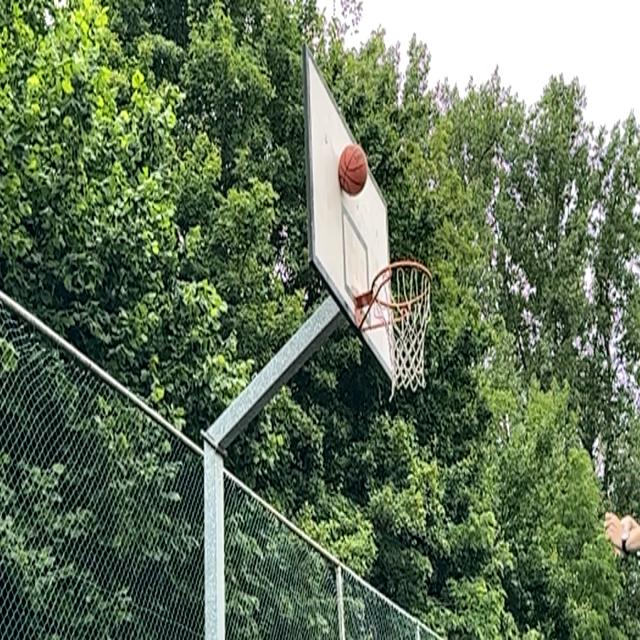rebound_hit: (337, 145, 368, 196)
